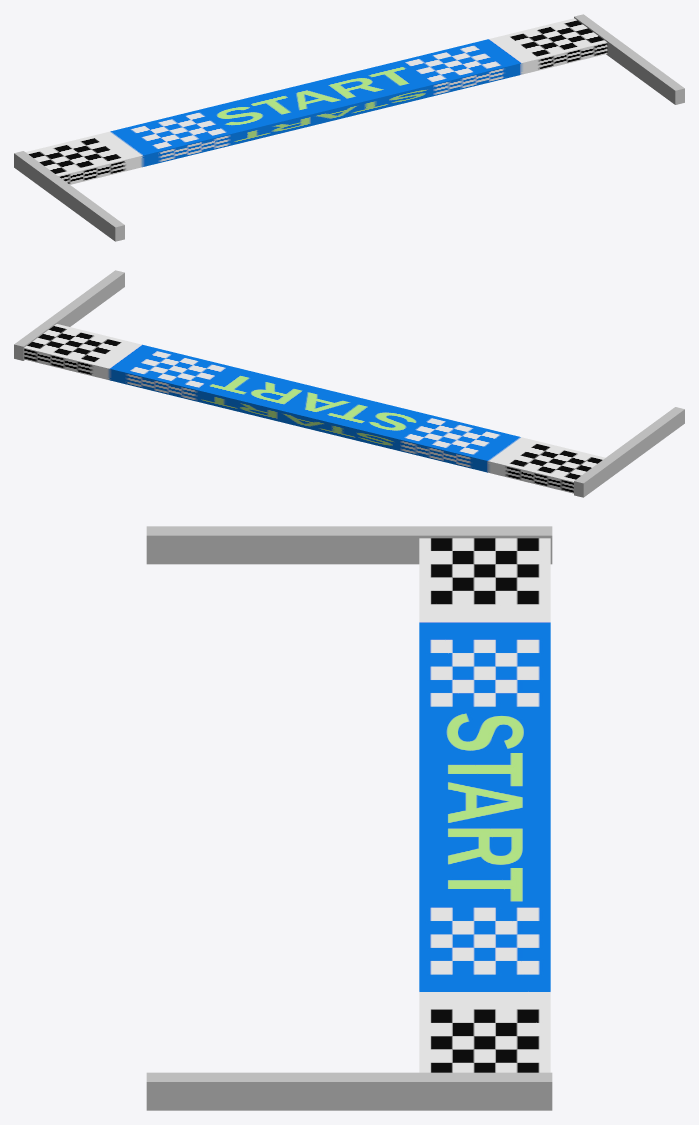
Rendered from start_line.FBX.
3 renders of one model, top to bottom at view 1: azimuth 30°, elevation 25°; view 2: azimuth 150°, elevation 25°; view 3: azimuth 270°, elevation 25°, orthographic. The views are drawn at different scales.
Visible parts, largest first — view 1: start_gate; view 2: start_gate; view 3: start_gate.
Boxes of the visible parts, box(x1,y1,x2,y2) form: start_gate: box(14, 14, 684, 241); start_gate: box(14, 270, 684, 497); start_gate: box(146, 526, 552, 1110).
Size of the model in its own units: 27534 by 660 by 8490.
